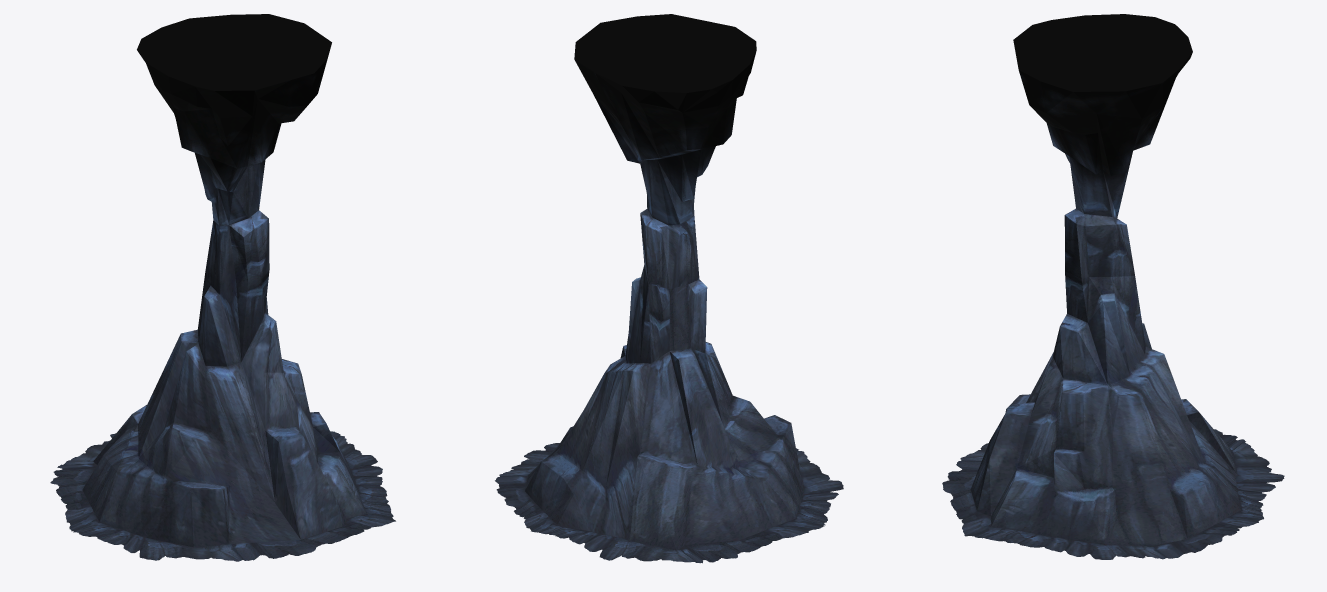
The model's file is mine_column_free_02.fbx.
3 renders of one model, left to right at view 1: azimuth 30°, elevation 25°; view 2: azimuth 150°, elevation 25°; view 3: azimuth 270°, elevation 25°, orthographic.
Parts seen in each view (by area): view 1: mine_column_free_02-0; view 2: mine_column_free_02-0; view 3: mine_column_free_02-0.
Part boxes in pixels (box(x1,y1,x2,y2)): mine_column_free_02-0: box(50, 14, 395, 561); mine_column_free_02-0: box(495, 14, 843, 563); mine_column_free_02-0: box(942, 14, 1284, 559).
Bounding box in the file's own units: 9.69 × 11 × 9.19.
